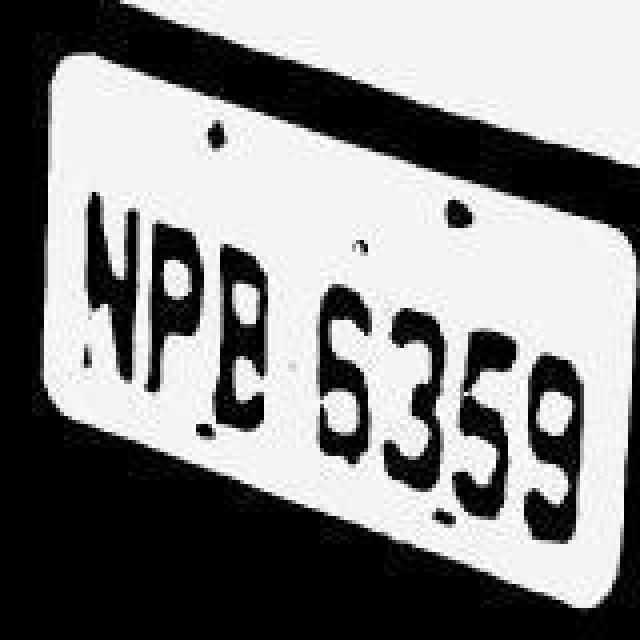3: (380, 284, 452, 508)
5: (446, 284, 514, 524)
6: (302, 272, 378, 504)
9: (516, 320, 588, 552)
B: (202, 230, 278, 434)
N: (76, 146, 140, 398)
P: (136, 208, 208, 408)
